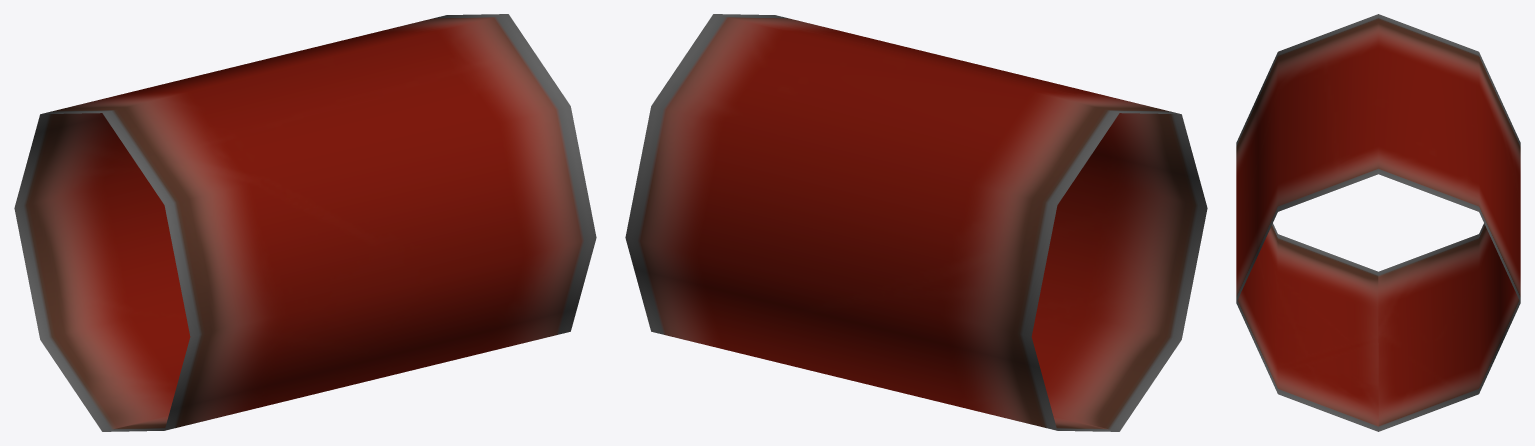
Rendered from pipe01_str_16a_low.fbx.
3 renders of one model, left to right at view 1: azimuth 30°, elevation 25°; view 2: azimuth 150°, elevation 25°; view 3: azimuth 270°, elevation 25°, orthographic. The views are drawn at different scales.
Parts seen in each view (by area): view 1: pipe01_str_16a_low; view 2: pipe01_str_16a_low; view 3: pipe01_str_16a_low.
Part boxes in pixels (x1,y1,x2,y2): pipe01_str_16a_low: (14,14,596,431); pipe01_str_16a_low: (625,14,1207,431); pipe01_str_16a_low: (1236,14,1520,431).
Bounding box in the file's own units: 16 × 12 × 12.
